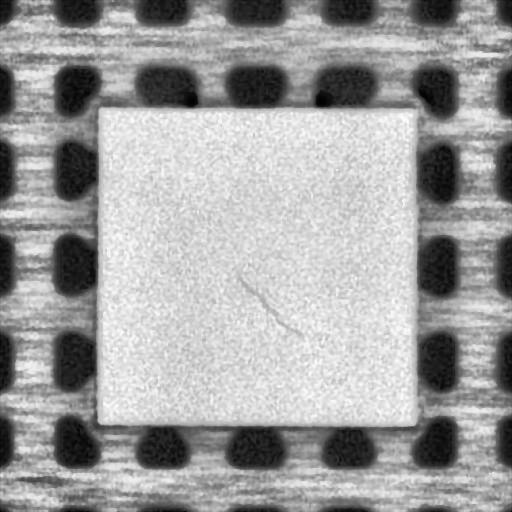DIE_CRACK: (238, 272, 305, 336)
